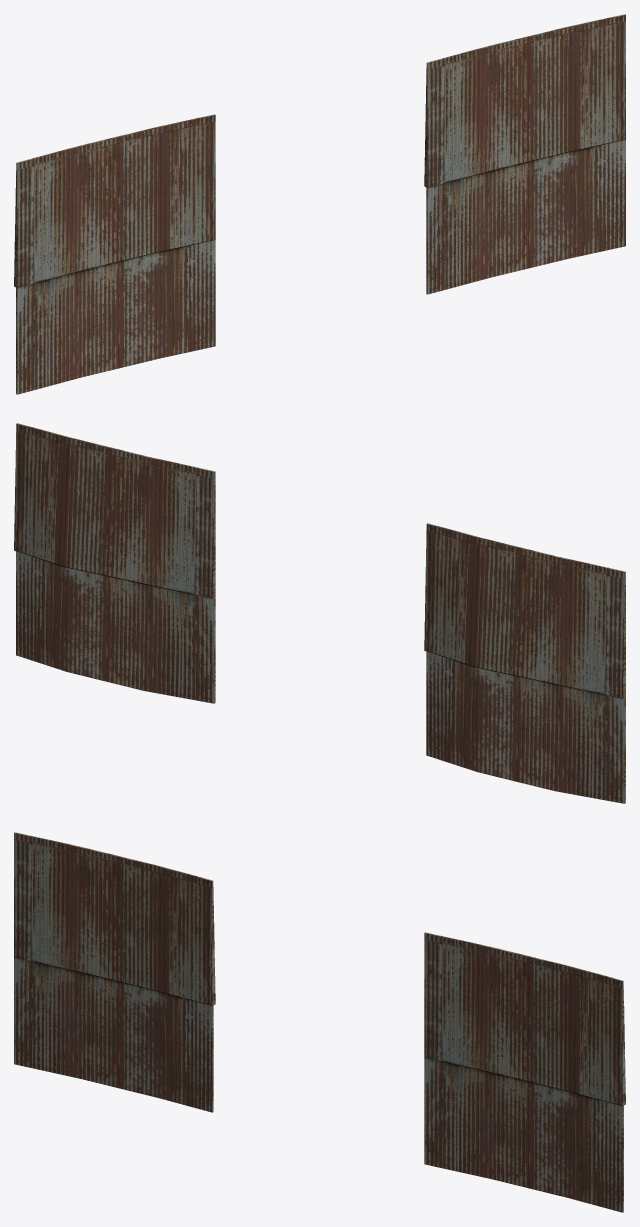
Rendered from stuccobuildingb_id_5_metalcorrugateda_0_lev1.glb.
3 renders of one model, top to bottom at view 1: azimuth 30°, elevation 25°; view 2: azimuth 150°, elevation 25°; view 3: azimuth 330°, elevation 25°, orthographic.
Visible parts, largest first — view 1: stuccobuildingb_id_5_metalcorrugateda_0_lev1; view 2: stuccobuildingb_id_5_metalcorrugateda_0_lev1; view 3: stuccobuildingb_id_5_metalcorrugateda_0_lev1.
Boxes of the visible parts, bbox=[...] form: stuccobuildingb_id_5_metalcorrugateda_0_lev1: bbox=[14, 14, 625, 394]; stuccobuildingb_id_5_metalcorrugateda_0_lev1: bbox=[14, 423, 625, 803]; stuccobuildingb_id_5_metalcorrugateda_0_lev1: bbox=[14, 832, 625, 1212].
Bounding box in the file's own units: 4.31 × 1.57 × 0.096.
Materials: 1 (1 with a texture image).
